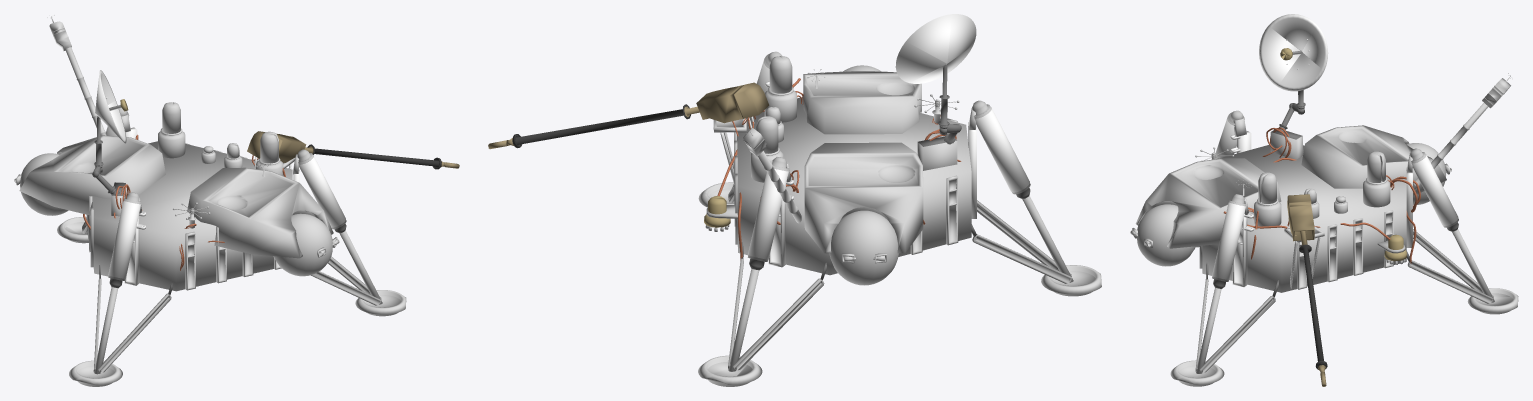
The model's file is viking-lander.glb.
3 renders of one model, left to right at view 1: azimuth 30°, elevation 25°; view 2: azimuth 150°, elevation 25°; view 3: azimuth 270°, elevation 25°, orthographic. The views are drawn at different scales.
Visible parts, largest first — view 1: polySurfa1, polySurfa2; view 2: polySurfa1, polySurfa2; view 3: polySurfa1, polySurfa2.
Boxes of the visible parts, x1,y1,x2,y2 form: polySurfa1: (14, 15, 459, 386); polySurfa2: (83, 134, 258, 270); polySurfa1: (488, 14, 1101, 386); polySurfa2: (717, 94, 961, 259); polySurfa1: (1130, 14, 1518, 386); polySurfa2: (1211, 127, 1420, 263).
Bounding box in the file's own units: 16.74 × 8.97 × 12.55.
